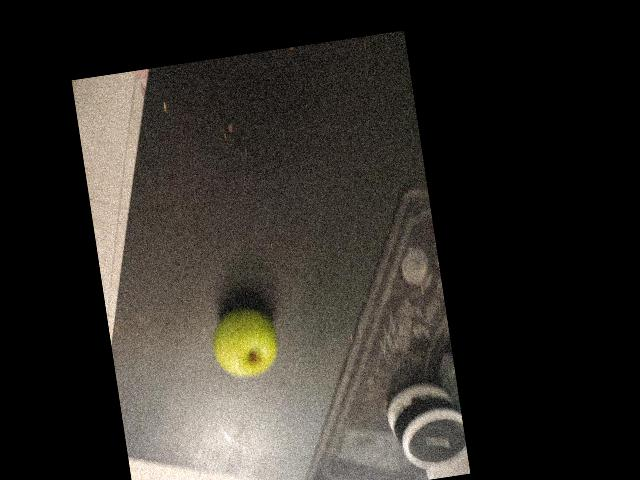apple: (245, 326, 336, 409)
